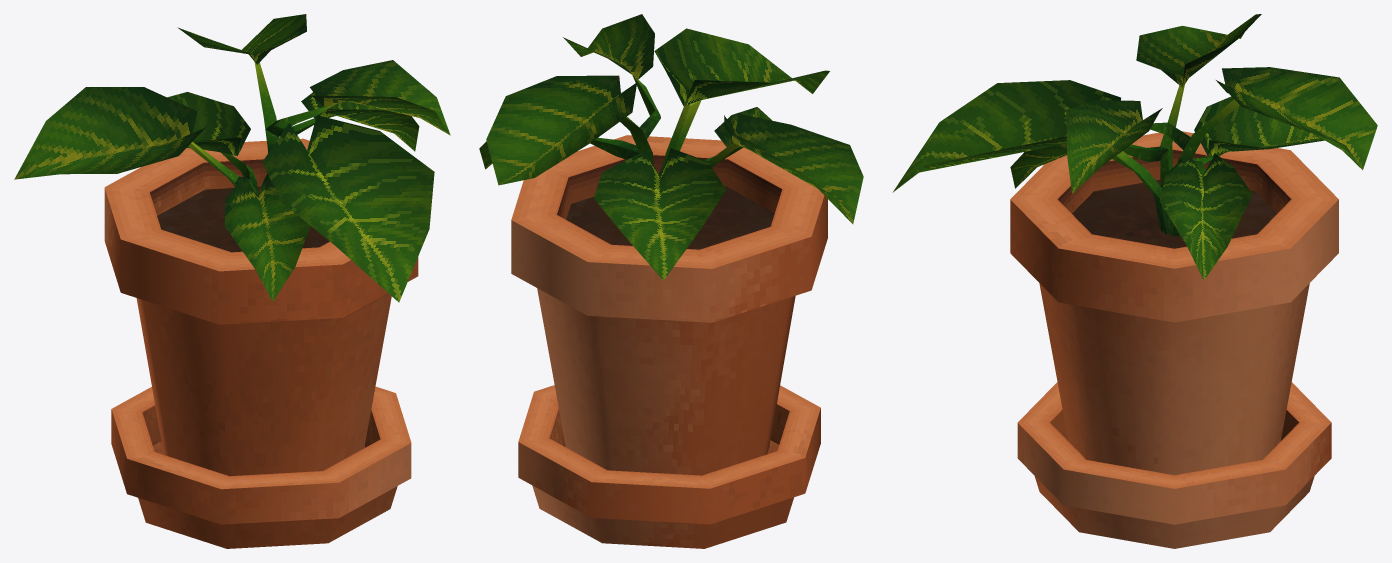
The model's file is pot_plant.glb.
3 renders of one model, left to right at view 1: azimuth 30°, elevation 25°; view 2: azimuth 150°, elevation 25°; view 3: azimuth 270°, elevation 25°, orthographic.
Visible parts, largest first — view 1: PotPlant; view 2: PotPlant; view 3: PotPlant.
Boxes of the visible parts, left/top/right/bottom form: PotPlant: left=14, top=14, right=450, bottom=548; PotPlant: left=479, top=14, right=863, bottom=548; PotPlant: left=892, top=14, right=1377, bottom=548.
Bounding box in the file's own units: 0.0306 × 0.0324 × 0.0333.
Materials: 1 (1 with a texture image).
